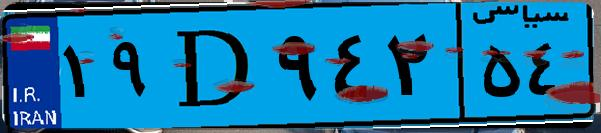1: (57, 26, 110, 100)
2: (385, 28, 445, 110)
4: (330, 28, 385, 110), (525, 38, 570, 115)
5: (475, 38, 525, 113)
9: (270, 28, 330, 110), (110, 28, 158, 98)
D: (158, 12, 270, 120)
